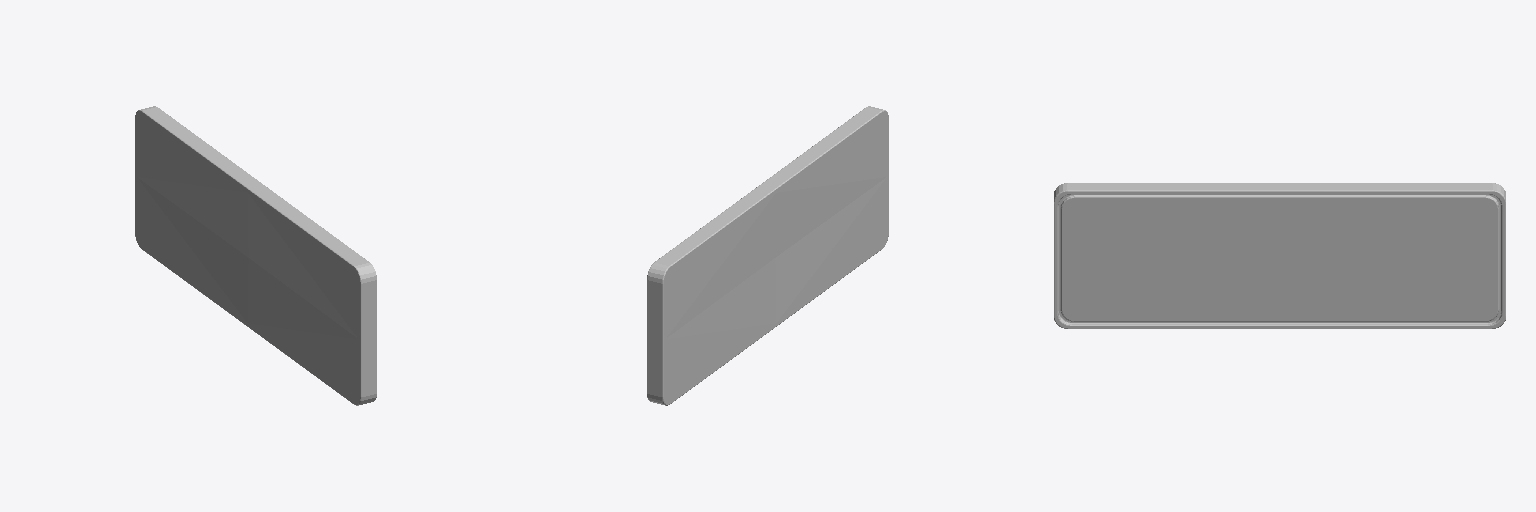
Rendered from message-board.obj.
3 views of the same model, side by side, from view 1: azimuth 30°, elevation 25°; view 2: azimuth 150°, elevation 25°; view 3: azimuth 270°, elevation 25° (orthographic).
Visible parts, largest first — view 1: Board_Cube.004; view 2: Board_Cube.004; view 3: Board_Cube.004.
Part boxes in pixels (bbox=[...]): Board_Cube.004: bbox=[135, 106, 376, 405]; Board_Cube.004: bbox=[647, 106, 888, 405]; Board_Cube.004: bbox=[1054, 183, 1505, 328].
Size of the model in its own units: 0.067 by 0.5315 by 1.57.